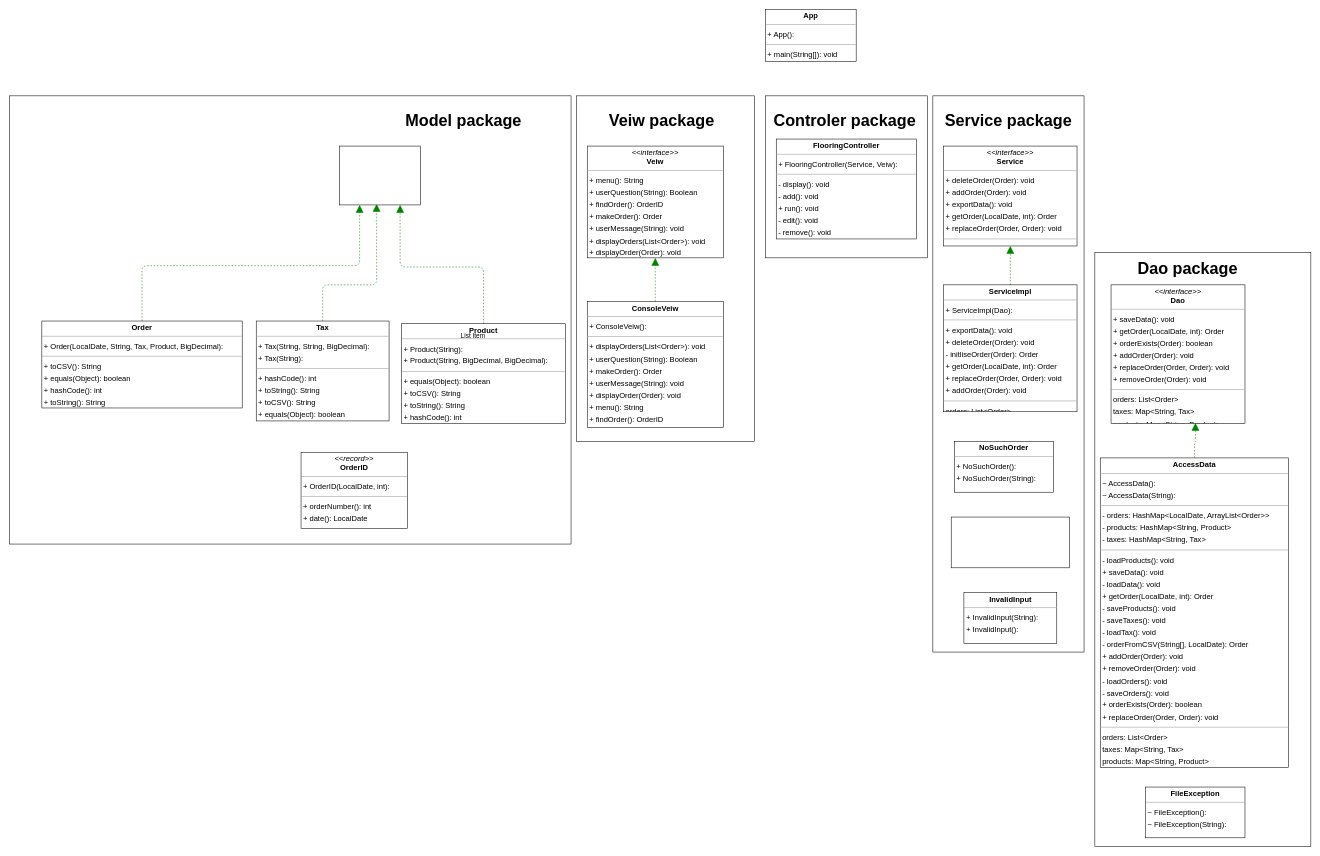
The diagram is 1320 pixels wide and 856 high, and some of its shapes have lost their labels. The box of each missing label's shape, as (x1, y1, x2, y2) in pixels:
<<interface>> model + toString(): String + toCSV(): String: (339, 146, 420, 205)
OrderAlreadyExists + OrderAlreadyExists(): + OrderAlreadyExists(String):: (951, 517, 1069, 568)
